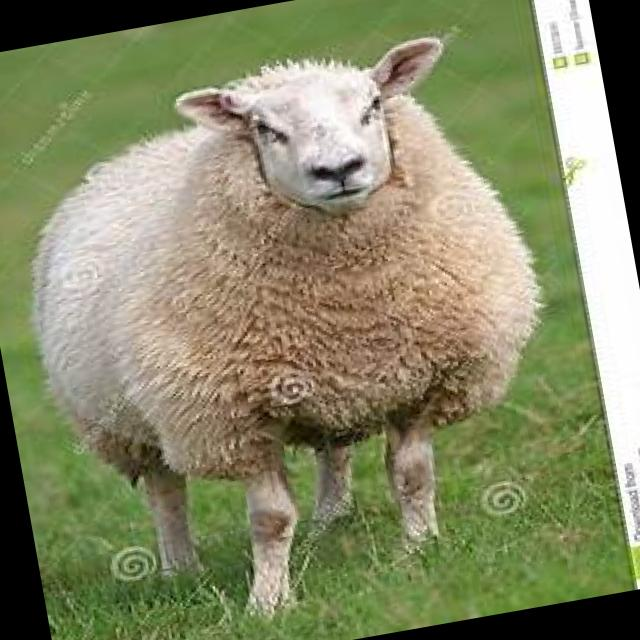animal: (0, 18, 588, 640)
